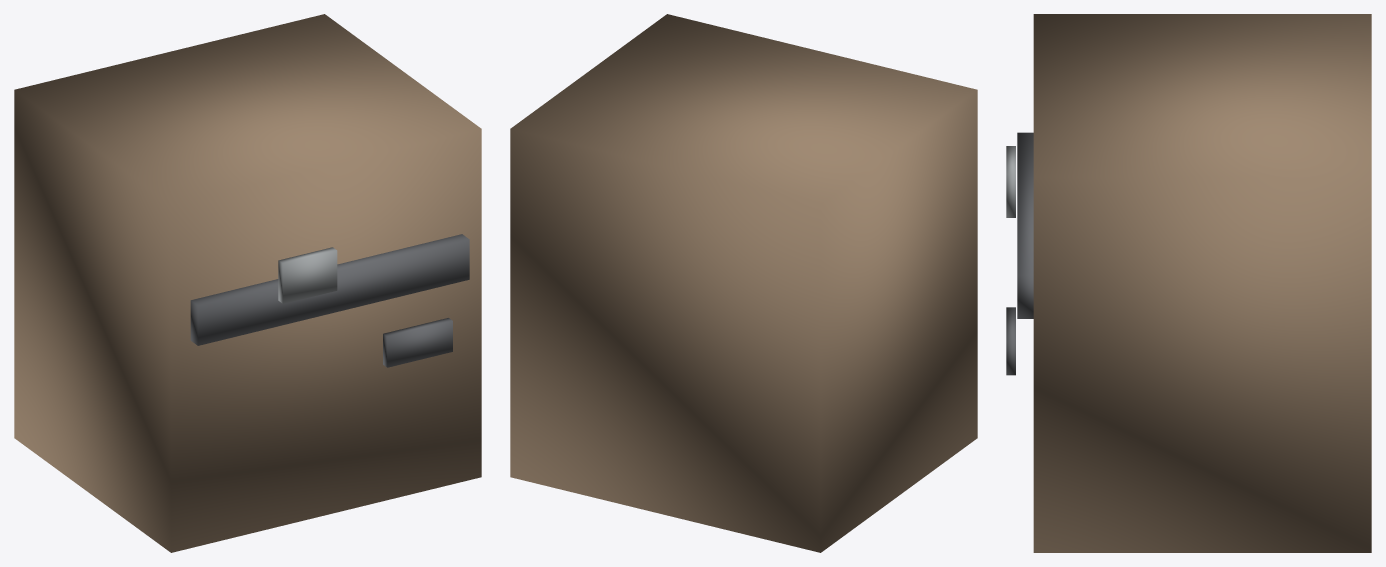
The model's file is nightstand__weathered.glb.
3 views of the same model, side by side, from view 1: azimuth 30°, elevation 25°; view 2: azimuth 150°, elevation 25°; view 3: azimuth 270°, elevation 25° (orthographic). The views are drawn at different scales.
Parts seen in each view (by area): view 1: world; view 2: world; view 3: world.
Boxes of the visible parts, x1,y1,x2,y2 form: world: (14, 14, 481, 552); world: (510, 14, 977, 552); world: (1006, 14, 1371, 552).
Size of the model in its own units: 0.48 by 0.5148 by 0.454.
